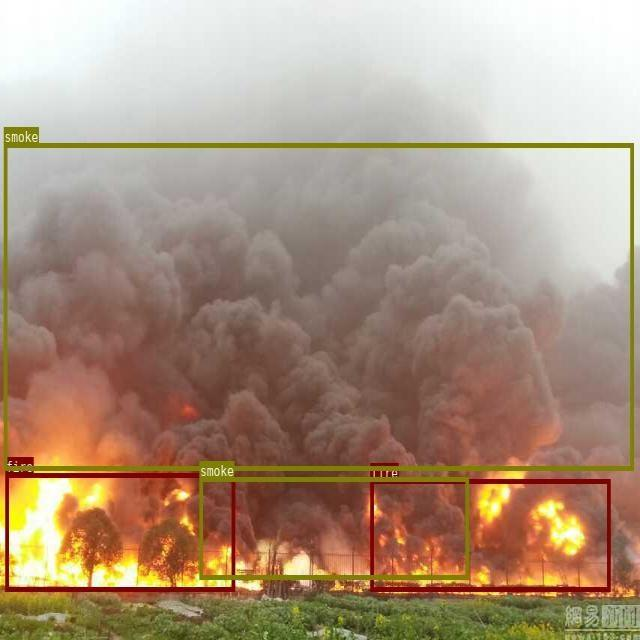fire: (5, 473, 234, 591), (370, 479, 610, 591)
smoke: (3, 143, 633, 470), (199, 477, 468, 578)
